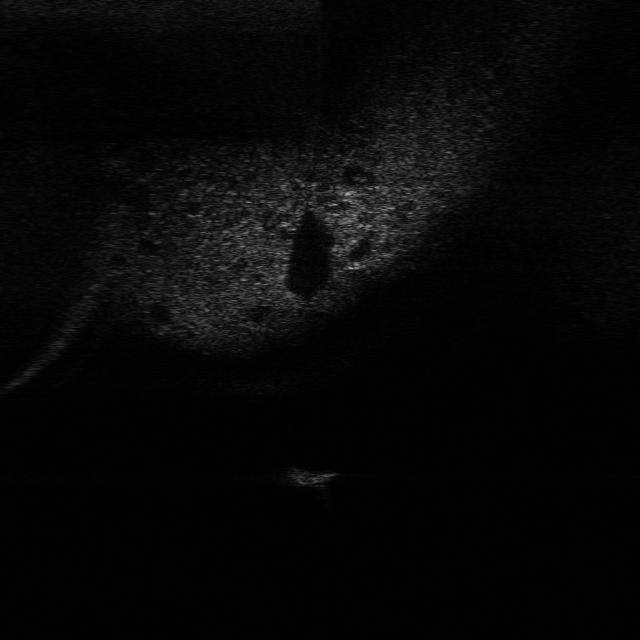cube: (277, 464, 341, 491)
